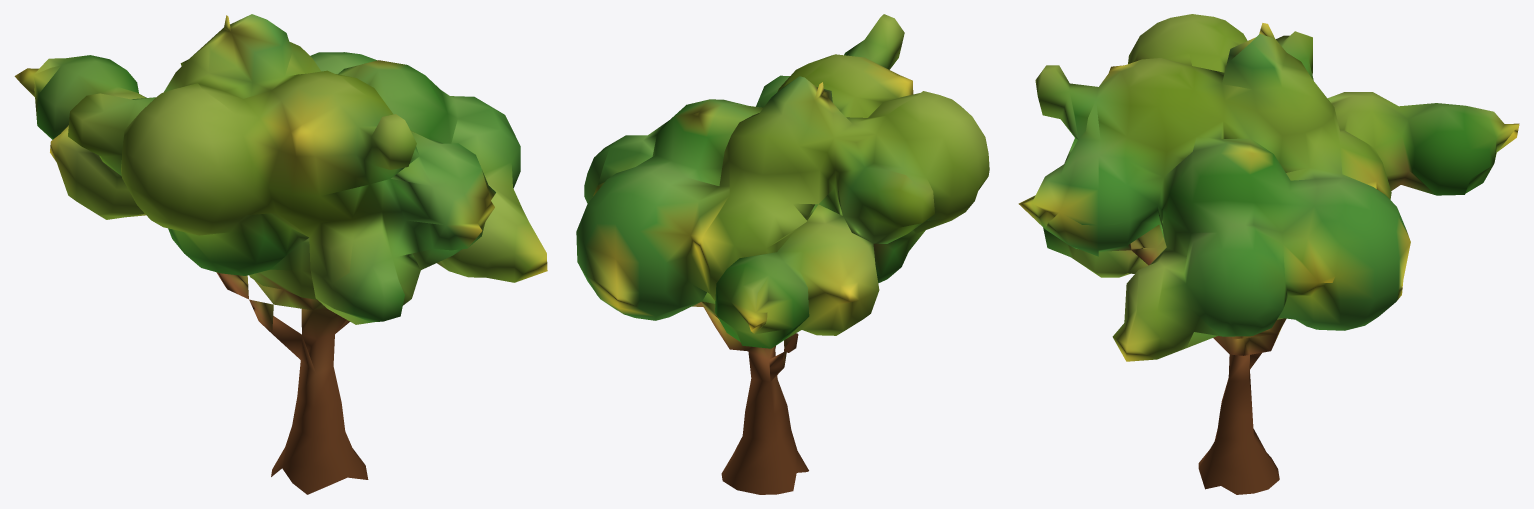
File: orchard-tree-108-lod2.obj
3 views of the same model, side by side, from view 1: azimuth 30°, elevation 25°; view 2: azimuth 150°, elevation 25°; view 3: azimuth 270°, elevation 25° (orthographic). The views are drawn at different scales.
Visible parts, largest first — view 1: simplified; view 2: simplified; view 3: simplified.
Boxes of the visible parts, left/top/right/bottom form: simplified: left=14, top=14, right=547, bottom=494; simplified: left=576, top=14, right=989, bottom=494; simplified: left=1018, top=14, right=1519, bottom=494.
Size of the model in its own units: 341 by 377 by 408.
